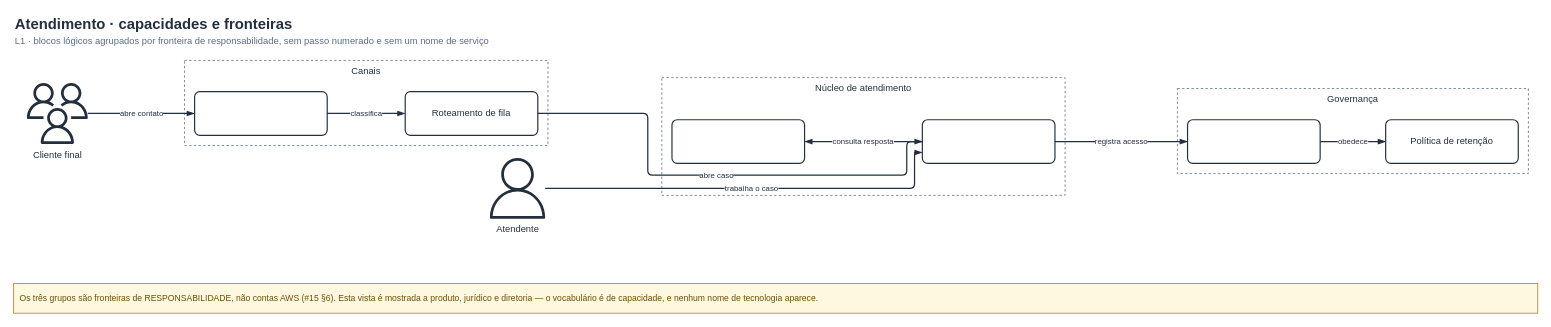
Some shapes in this 1551 by 327 pixel diagram are drawn without their labels. Here are the shapes that lost their labels. From the top down, the box of each, then its label:
(194, 91, 327, 136): Recepção de contato
(671, 119, 805, 164): Base de conhecimento
(921, 119, 1055, 164): Gestão de casos
(1187, 119, 1320, 164): Trilha de auditoria
